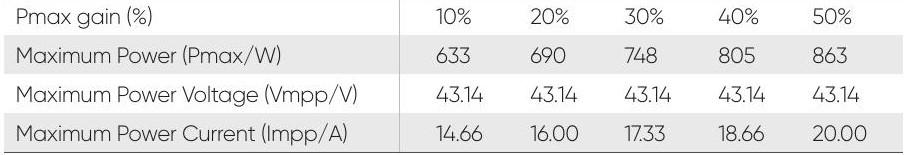table: (1, 2, 910, 155)
table column: (8, 1, 393, 151), (408, 2, 497, 150), (510, 4, 596, 151), (608, 5, 691, 153), (704, 4, 786, 152), (798, 4, 878, 151)
table row: (6, 77, 904, 112), (5, 40, 906, 73), (5, 118, 906, 150), (5, 5, 905, 35)
